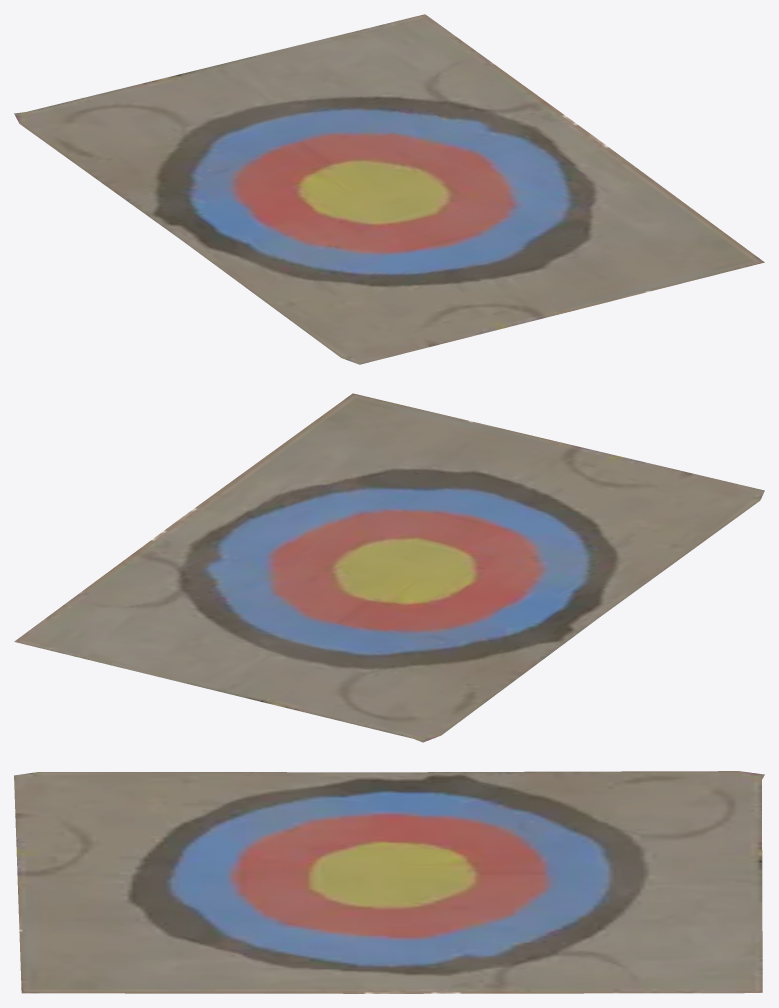
File: shooting_target_paper_b.glb
The picture shows the model from 3 angles, top to bottom: view 1: azimuth 30°, elevation 25°; view 2: azimuth 150°, elevation 25°; view 3: azimuth 270°, elevation 25°; orthographic projection. The views are drawn at different scales.
Visible parts, largest first — view 1: Shooting_Target_Paper_b; view 2: Shooting_Target_Paper_b; view 3: Shooting_Target_Paper_b.
Part boxes in pixels (left/top/right/bottom): Shooting_Target_Paper_b: left=14, top=14, right=764, bottom=364; Shooting_Target_Paper_b: left=14, top=393, right=764, bottom=742; Shooting_Target_Paper_b: left=14, top=771, right=764, bottom=993.
Size of the model in its own units: 0.4217 by 0 by 0.6007.
1 material, 1 textured.
